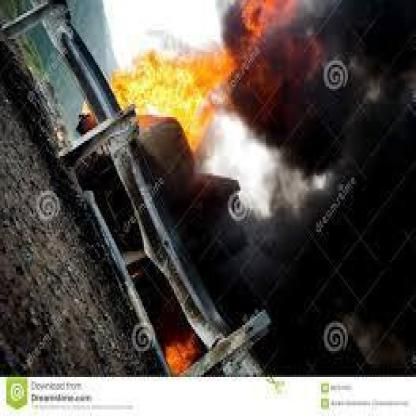fire: (112, 23, 252, 147), (216, 0, 300, 63), (159, 314, 207, 370)
smoke: (270, 1, 410, 361)
